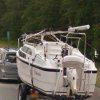Boat: (14, 26, 94, 99)
